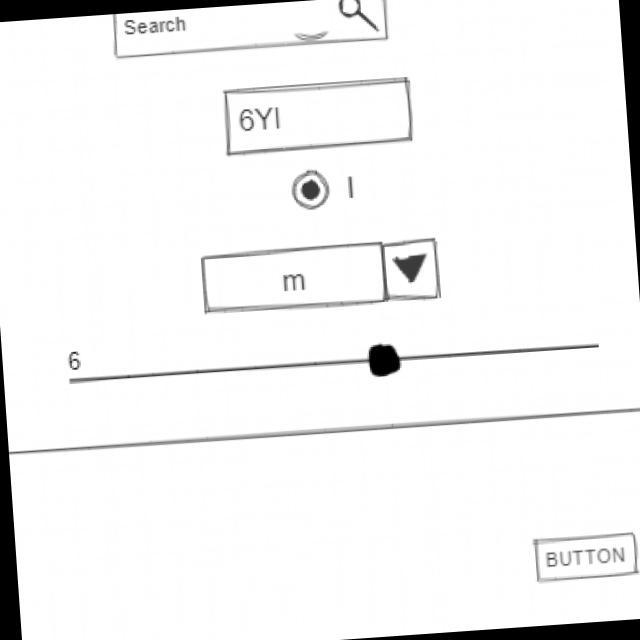button: (529, 524, 640, 584)
container: (7, 399, 640, 640)
input: (215, 70, 418, 159)
radio: (286, 160, 370, 213)
search: (105, 0, 391, 65)
select: (195, 230, 448, 319)
